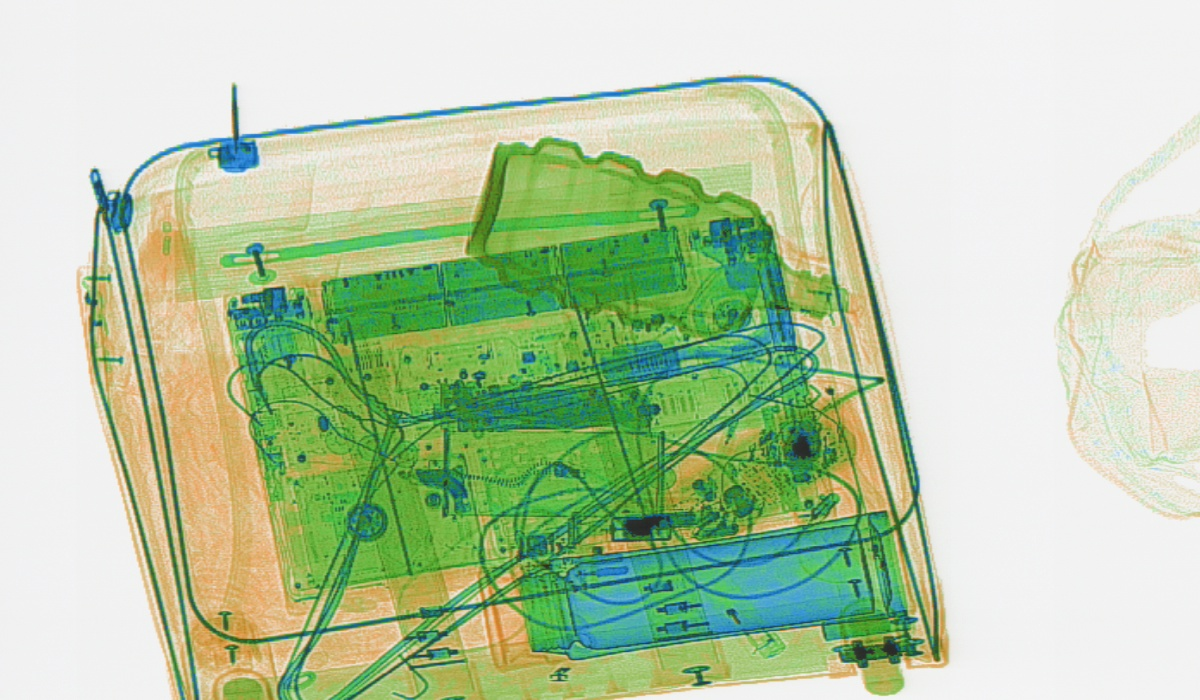zippooil: (440, 422, 666, 525)
